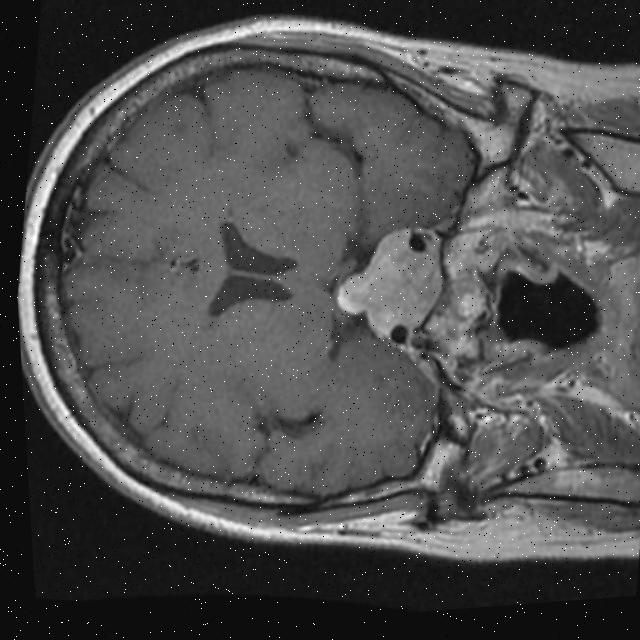Pituitary: (326, 211, 453, 343)
